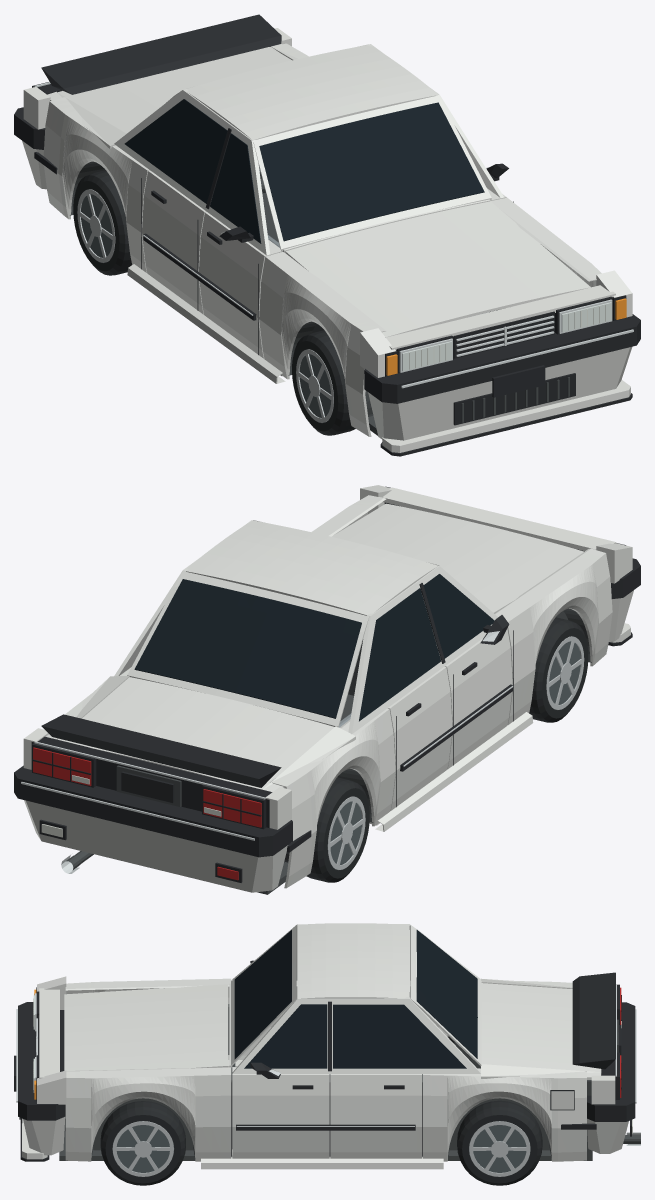
The model's file is lancer_box_1983_modular.glb.
The picture shows the model from 3 angles, top to bottom: view 1: azimuth 30°, elevation 25°; view 2: azimuth 150°, elevation 25°; view 3: azimuth 270°, elevation 25°; orthographic projection. The views are drawn at different scales.
Visible parts, largest first — view 1: shell_base, hood_stock, windshield, bumper_front_stock, fender_fr_stock, spoiler_rear_stock, trunk_stock, window_rear_-1, wheel_fr, wheel_rr, nose_top, window_front_-1 (+12 smaller); view 2: shell_base, rear_glass, bumper_rear_stock, trunk_stock, hood_stock, fender_fr_stock, spoiler_rear_stock, window_rear_-1, rear_panel, wheel_rr, wheel_fr, nose_top (+10 smaller); view 3: shell_base, hood_stock, fender_fl_stock, trunk_stock, window_rear_1, wheel_rl, wheel_fl, rear_glass, windshield, bumper_front_stock, spoiler_rear_stock, bumper_rear_stock (+8 smaller).
Part boxes in pixels (x1,y1,x2,y2): shell_base: (43,43,506,435); hood_stock: (285,201,590,337); windshield: (259,102,484,241); bumper_front_stock: (364,314,640,440); fender_fr_stock: (259,252,385,436); spoiler_rear_stock: (41,14,281,94); trunk_stock: (58,47,291,133); window_rear_-1: (124,99,227,203); wheel_fr: (292,330,355,435); wheel_rr: (73,170,131,275); nose_top: (386,285,615,349); window_front_-1: (210,133,261,243); shell_base: (46,520,591,894); rear_glass: (134,579,361,718); bumper_rear_stock: (14,765,292,892); trunk_stock: (58,677,334,789); hood_stock: (332,503,583,613); fender_fr_stock: (495,548,612,724); spoiler_rear_stock: (41,714,281,787); window_rear_-1: (359,588,441,721); rear_panel: (23,728,291,829); wheel_rr: (306,777,369,882); wheel_fr: (529,617,588,722); nose_top: (382,487,615,551); shell_base: (59,923,600,1161); hood_stock: (64,984,228,1070); fender_fl_stock: (65,1067,231,1161); trunk_stock: (480,983,601,1074); window_rear_1: (333,1004,466,1068); wheel_rl: (457,1100,542,1185); wheel_fl: (100,1101,185,1185); rear_glass: (416,930,477,1058); windshield: (234,930,291,1059); bumper_front_stock: (14,1002,65,1155); spoiler_rear_stock: (572,972,615,1069); bumper_rear_stock: (587,1002,636,1153).
Size of the model in its own units: 1.83 by 1.39 by 4.4.
